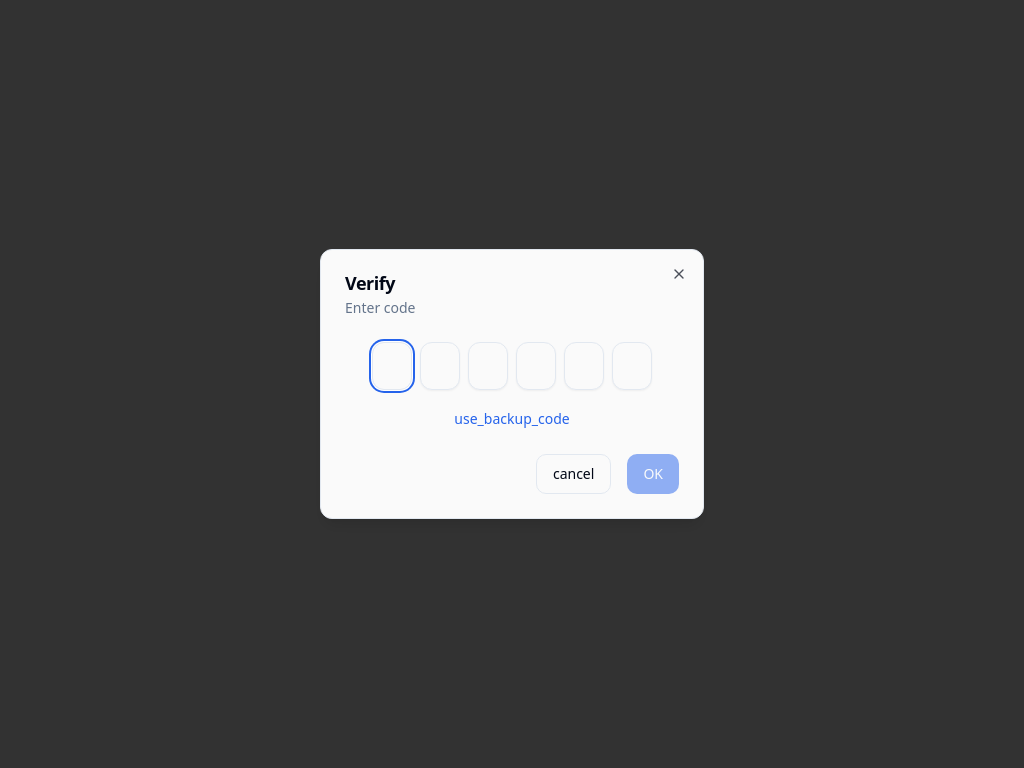
it: OtpDialog › enables confirm button when valid backup code is entered
Click the button "use_backup_code" at (512, 419), box [454,409,570,429]
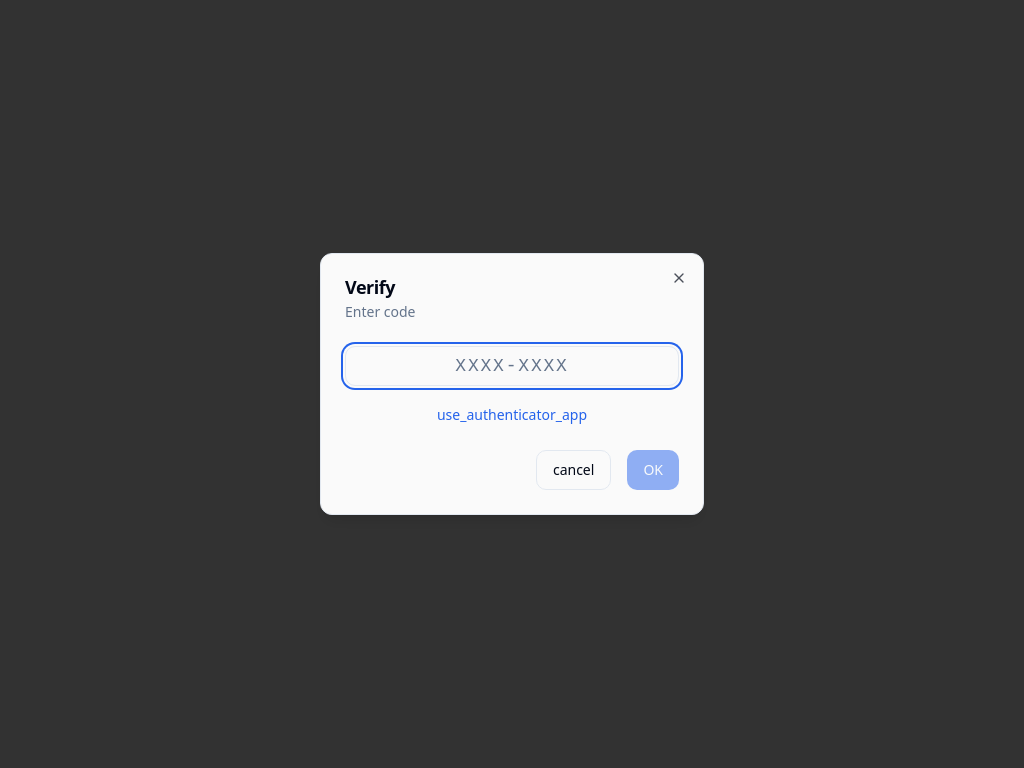
Type "AAAA-1111" into the field with placeholder "XXXX-XXXX" at (512, 366), box [345,346,679,386]
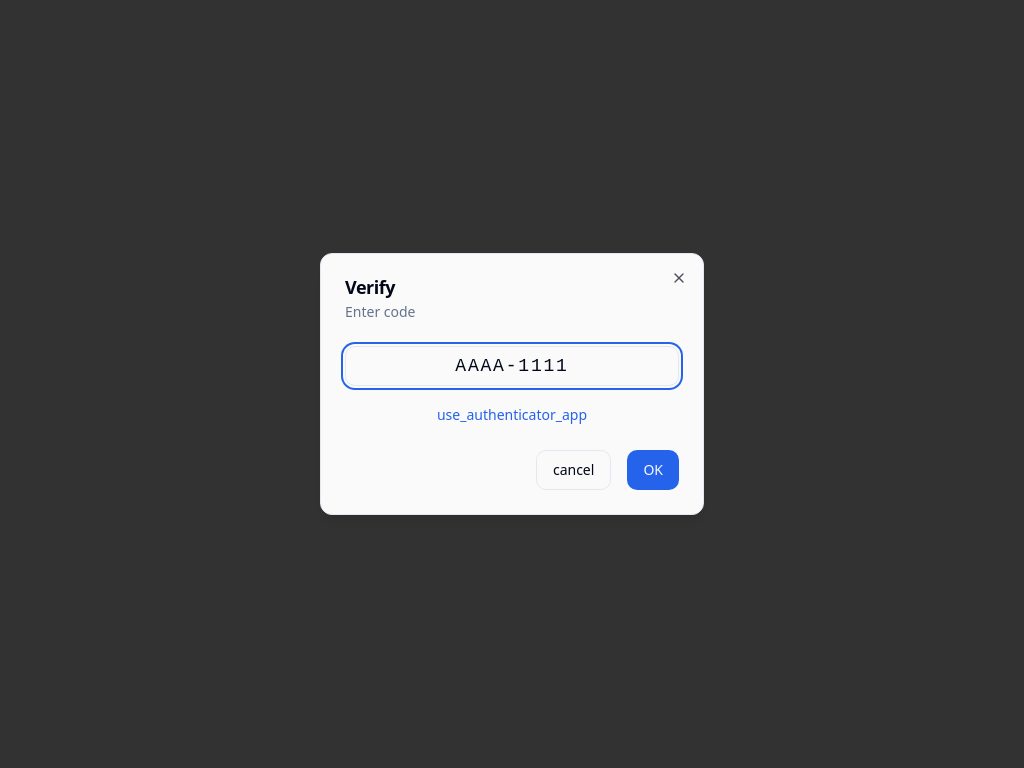
Expected: the button "OK" is enabled, [627,450,679,490]
